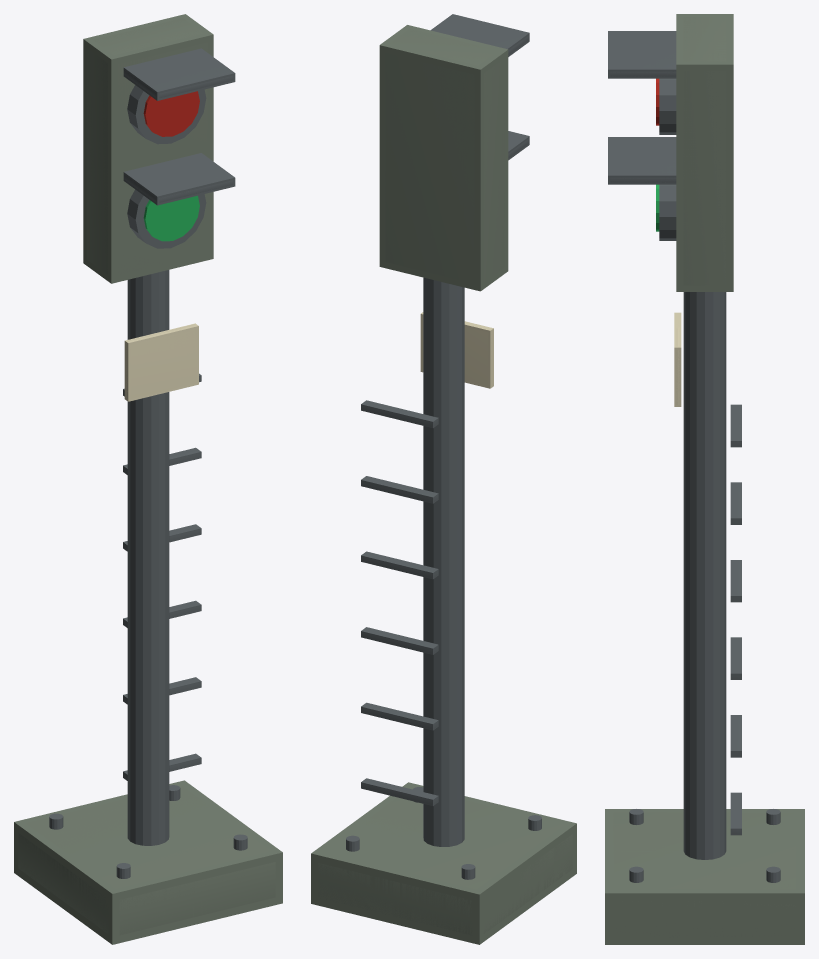
The model's file is RailSignal.glb.
3 views of the same model, side by side, from view 1: azimuth 30°, elevation 25°; view 2: azimuth 150°, elevation 25°; view 3: azimuth 270°, elevation 25° (orthographic). The views are drawn at different scales.
Visible parts, largest first — view 1: LOD0_SignalPaint, LOD0_GunSteel, LOD1_SignalPaint, LOD1_GunSteel, LOD0_GearMark, LOD0_SignalGreen, LOD0_SignalRed, LOD1_GearMark, LOD1_SignalRed, LOD1_SignalGreen; view 2: LOD0_SignalPaint, LOD1_SignalPaint, LOD0_GunSteel, LOD1_GunSteel, LOD0_GearMark, LOD1_GearMark; view 3: LOD0_GunSteel, LOD0_SignalPaint, LOD1_SignalPaint, LOD1_GunSteel, LOD1_GearMark.
Boxes of the visible parts, x1=… form: LOD0_SignalPaint: x1=18, y1=18, x2=275, y2=935; LOD0_GunSteel: x1=49, y1=49, x2=247, y2=878; LOD1_SignalPaint: x1=14, y1=14, x2=282, y2=944; LOD1_GunSteel: x1=123, y1=48, x2=235, y2=780; LOD0_GearMark: x1=126, y1=324, x2=196, y2=399; LOD0_SignalGreen: x1=143, y1=195, x2=199, y2=241; LOD0_SignalRed: x1=143, y1=91, x2=199, y2=136; LOD1_GearMark: x1=124, y1=323, x2=198, y2=401; LOD1_SignalRed: x1=145, y1=92, x2=199, y2=136; LOD1_SignalGreen: x1=146, y1=196, x2=199, y2=240; LOD0_SignalPaint: x1=318, y1=29, x2=572, y2=934; LOD1_SignalPaint: x1=311, y1=25, x2=576, y2=944; LOD0_GunSteel: x1=346, y1=15, x2=541, y2=879; LOD1_GunSteel: x1=361, y1=14, x2=529, y2=805; LOD0_GearMark: x1=422, y1=317, x2=492, y2=385; LOD1_GearMark: x1=420, y1=312, x2=493, y2=388; LOD0_GunSteel: x1=610, y1=32, x2=780, y2=882; LOD0_SignalPaint: x1=613, y1=17, x2=796, y2=936; LOD1_SignalPaint: x1=605, y1=14, x2=804, y2=944; LOD1_GunSteel: x1=608, y1=31, x2=741, y2=835; LOD1_GearMark: x1=674, y1=312, x2=681, y2=406.
Size of the model in its own units: 0.7 by 3.34 by 0.7.
